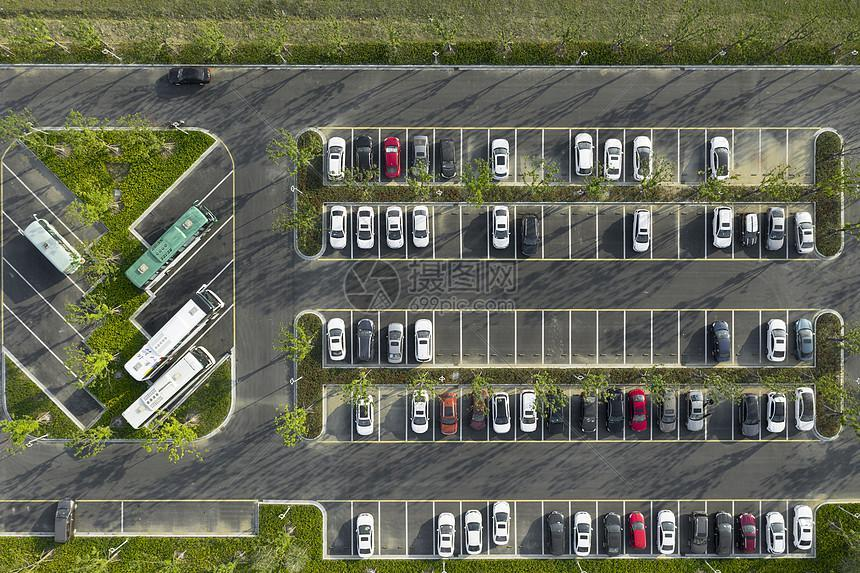empty: (732, 130, 760, 184), (652, 129, 678, 185), (706, 385, 732, 441), (379, 502, 405, 557), (461, 130, 487, 184), (760, 127, 786, 181), (678, 128, 703, 184), (461, 310, 486, 365), (516, 131, 542, 183), (462, 208, 488, 260), (598, 311, 624, 363), (326, 386, 351, 440), (326, 502, 350, 558), (789, 128, 813, 183), (652, 202, 676, 257), (518, 500, 542, 555), (680, 311, 704, 366), (569, 206, 595, 256), (652, 312, 677, 364), (517, 312, 541, 364), (572, 312, 596, 364), (626, 312, 650, 364), (380, 386, 403, 440), (598, 207, 622, 258), (435, 204, 458, 257), (545, 206, 568, 258), (545, 312, 568, 364), (410, 502, 432, 556), (491, 312, 514, 363), (682, 205, 704, 257), (436, 311, 458, 363), (735, 312, 756, 366), (547, 130, 568, 182)
occupied: (651, 384, 679, 442), (762, 311, 790, 368), (626, 126, 652, 187), (542, 502, 570, 558), (487, 384, 515, 440), (405, 384, 434, 438), (352, 384, 377, 446), (408, 310, 436, 365), (516, 383, 542, 442), (732, 384, 758, 442), (598, 382, 623, 442), (544, 384, 570, 440), (789, 384, 815, 440), (351, 201, 377, 257), (326, 130, 352, 186), (570, 385, 596, 440), (707, 311, 733, 366), (379, 203, 405, 258), (488, 501, 516, 552), (325, 310, 350, 366), (352, 502, 378, 555), (434, 501, 459, 556), (626, 383, 650, 440), (790, 310, 814, 367), (790, 501, 816, 553), (790, 204, 816, 256), (682, 384, 706, 440), (708, 501, 731, 559), (436, 130, 462, 181), (490, 129, 515, 182), (624, 502, 650, 552), (352, 311, 377, 363), (436, 384, 459, 440), (601, 130, 623, 188), (408, 130, 434, 179), (407, 204, 431, 257), (654, 502, 677, 557), (461, 503, 484, 558), (355, 130, 378, 185), (682, 502, 706, 554), (735, 501, 758, 555), (462, 384, 485, 438), (763, 384, 786, 438), (708, 131, 731, 184), (572, 129, 595, 182), (490, 206, 513, 258), (762, 504, 784, 558), (518, 206, 542, 255), (382, 130, 405, 181), (708, 205, 734, 250), (326, 204, 348, 257), (628, 205, 650, 257), (763, 206, 786, 254), (382, 313, 404, 363), (572, 508, 594, 557), (738, 203, 758, 255), (600, 510, 623, 554)
